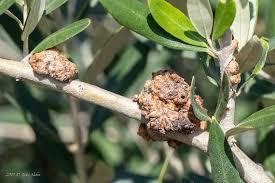Tuberculosis: (132, 67, 207, 144), (28, 45, 80, 86), (227, 59, 242, 86)
